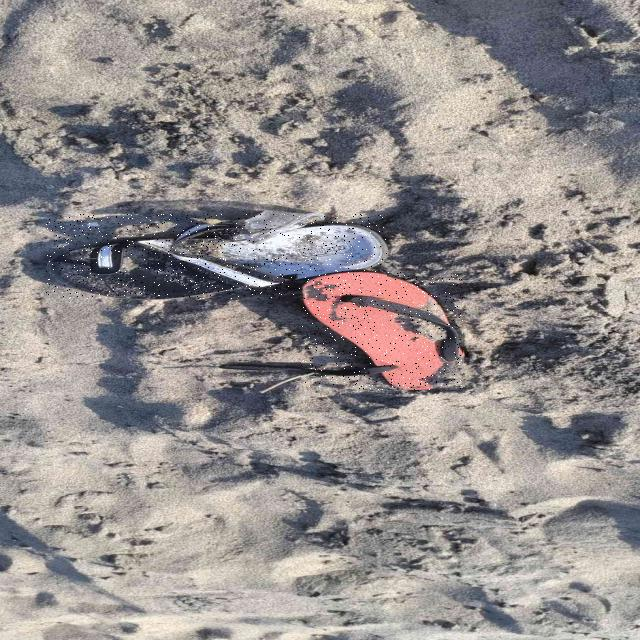other: (46, 214, 387, 299), (302, 272, 463, 389)
